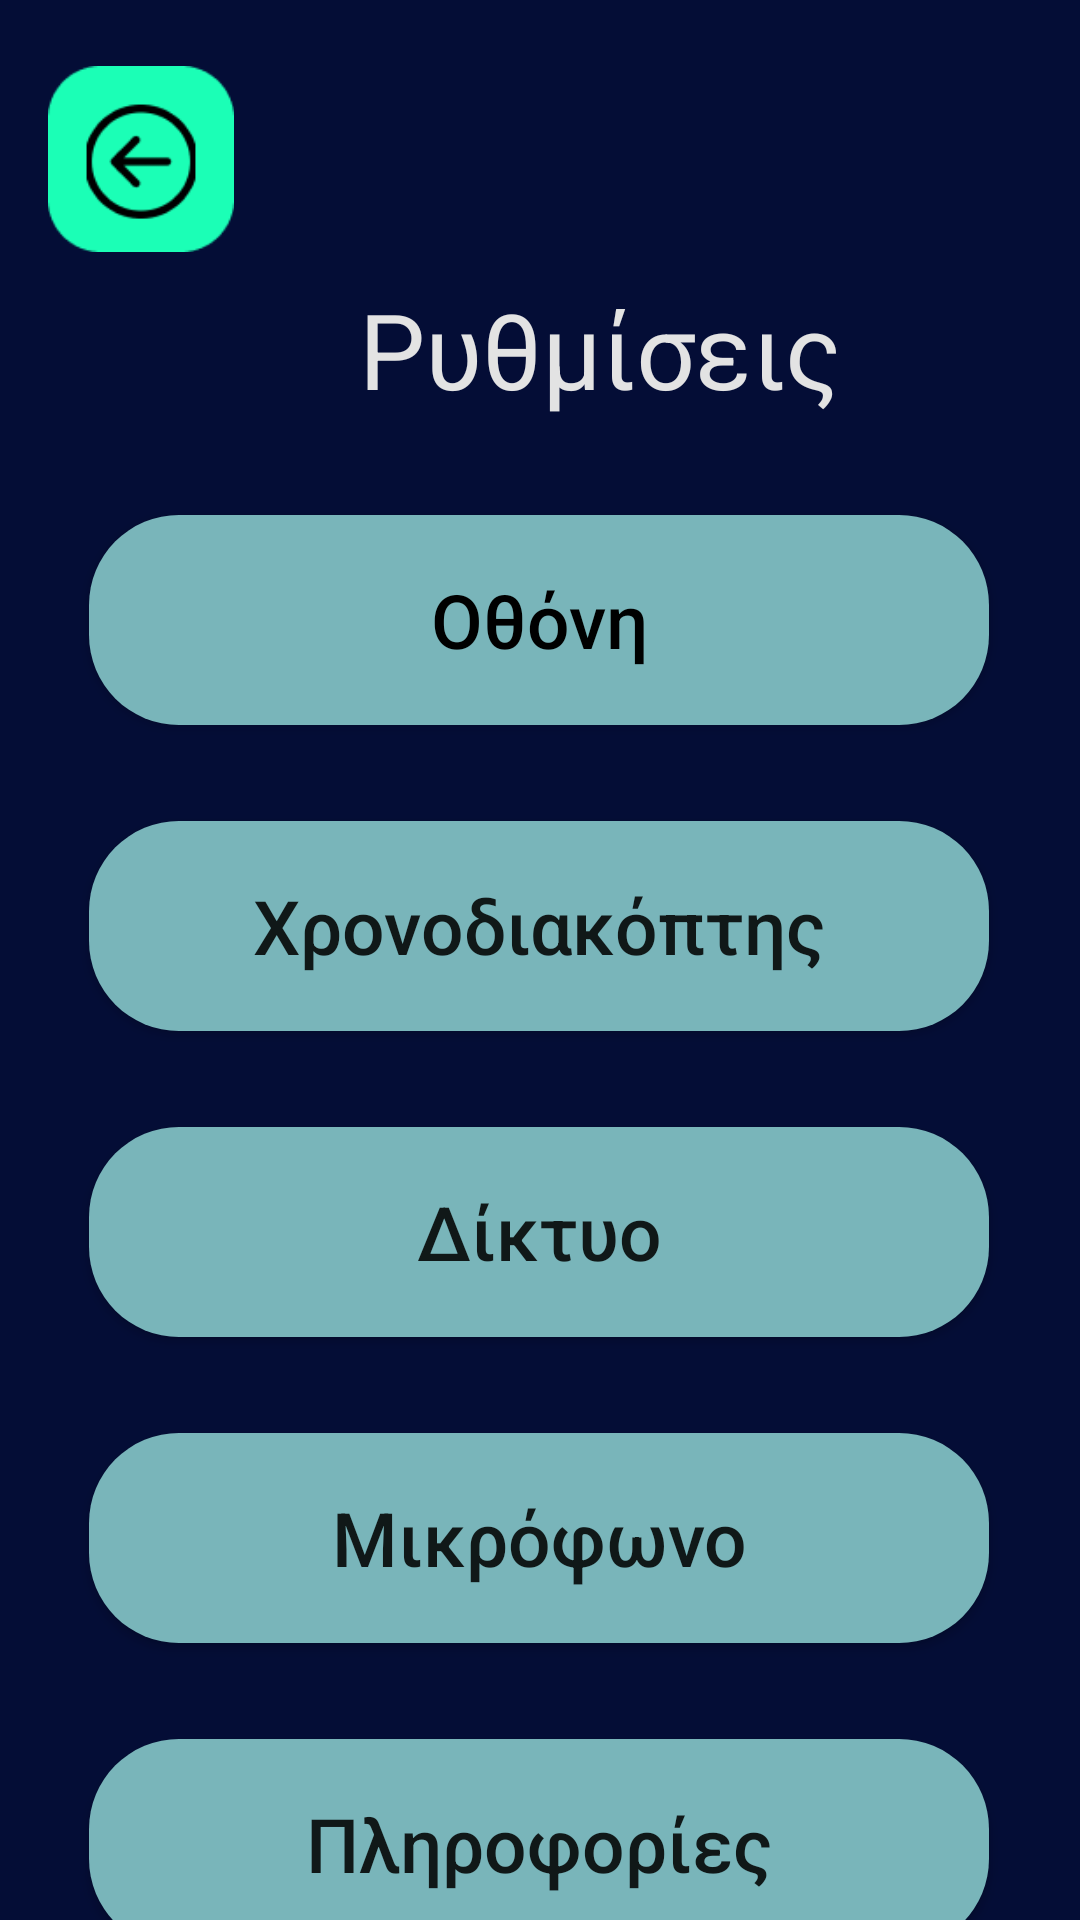

Where icons sit on this 1080 x 1920 app screen, as (x1, y1, x2, y2):
back: (48, 66, 234, 252)
